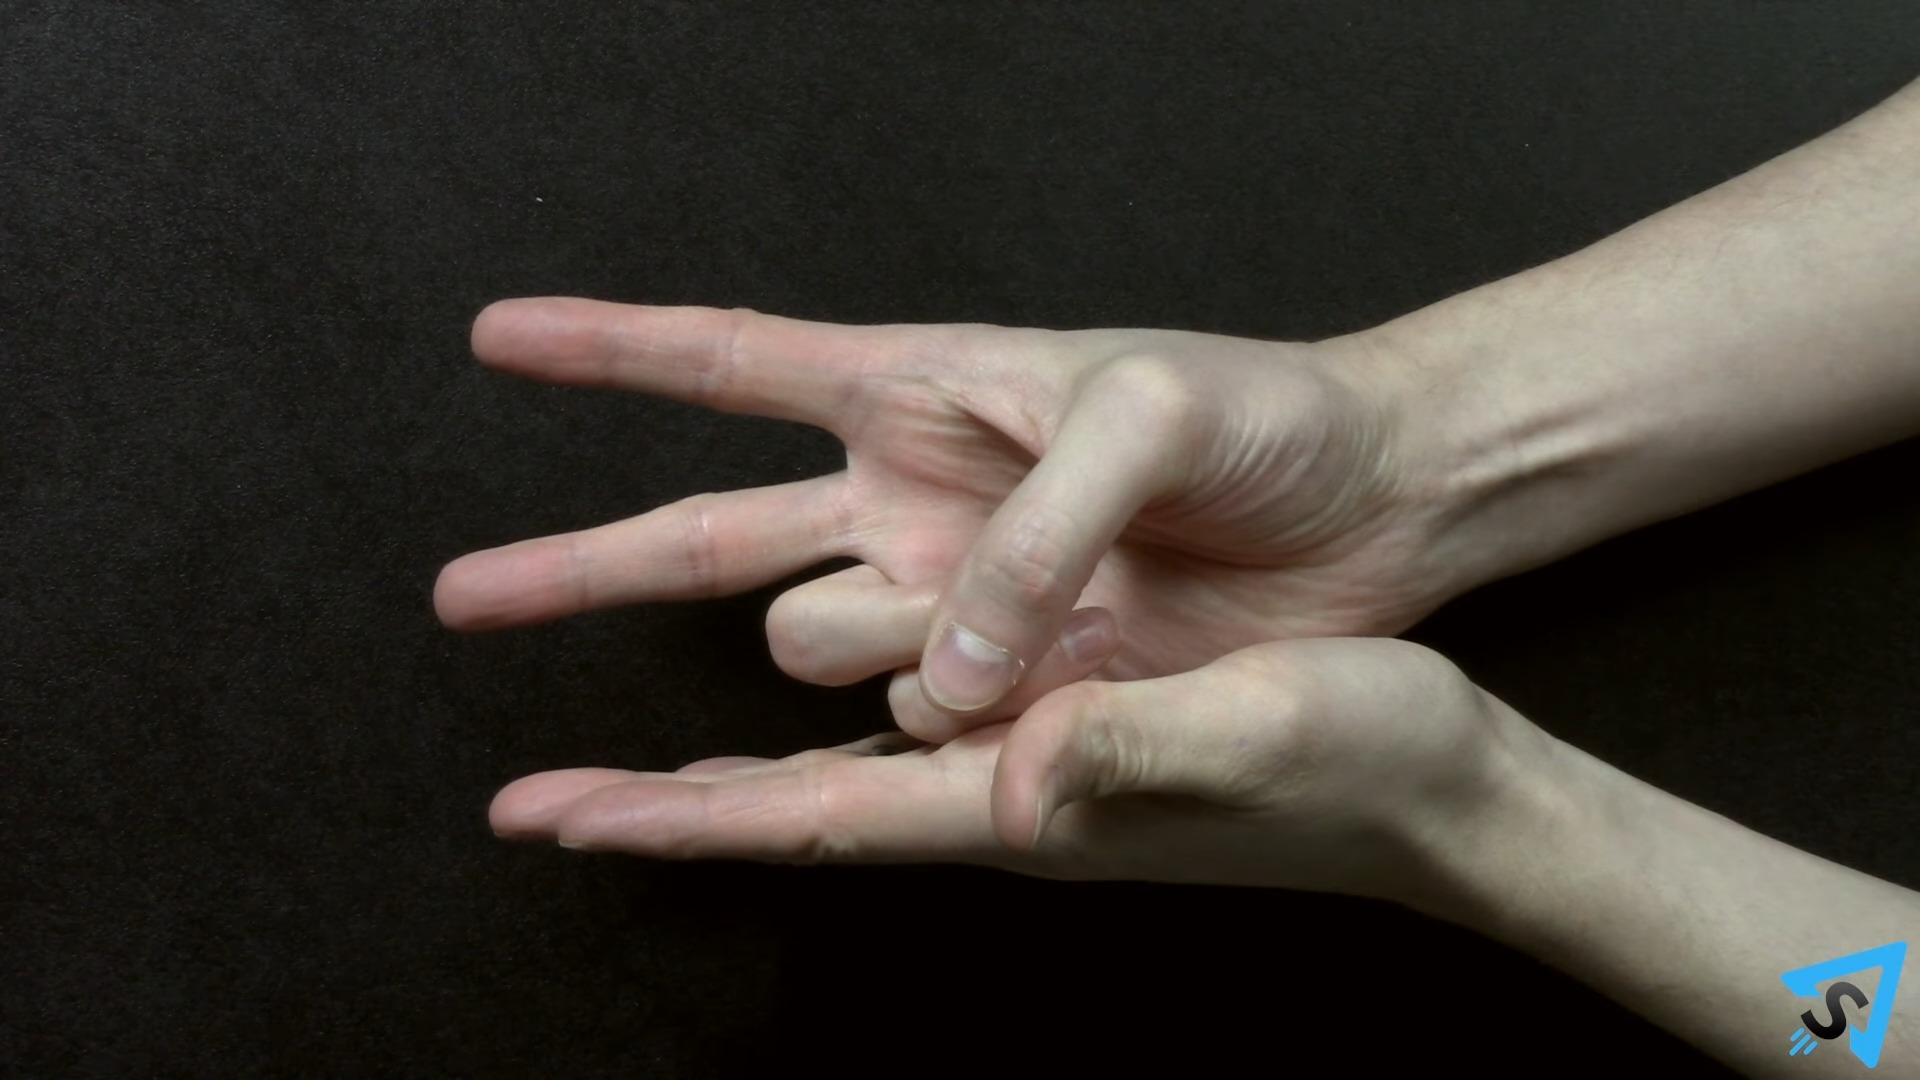Scissors: (433, 285, 1441, 742)
